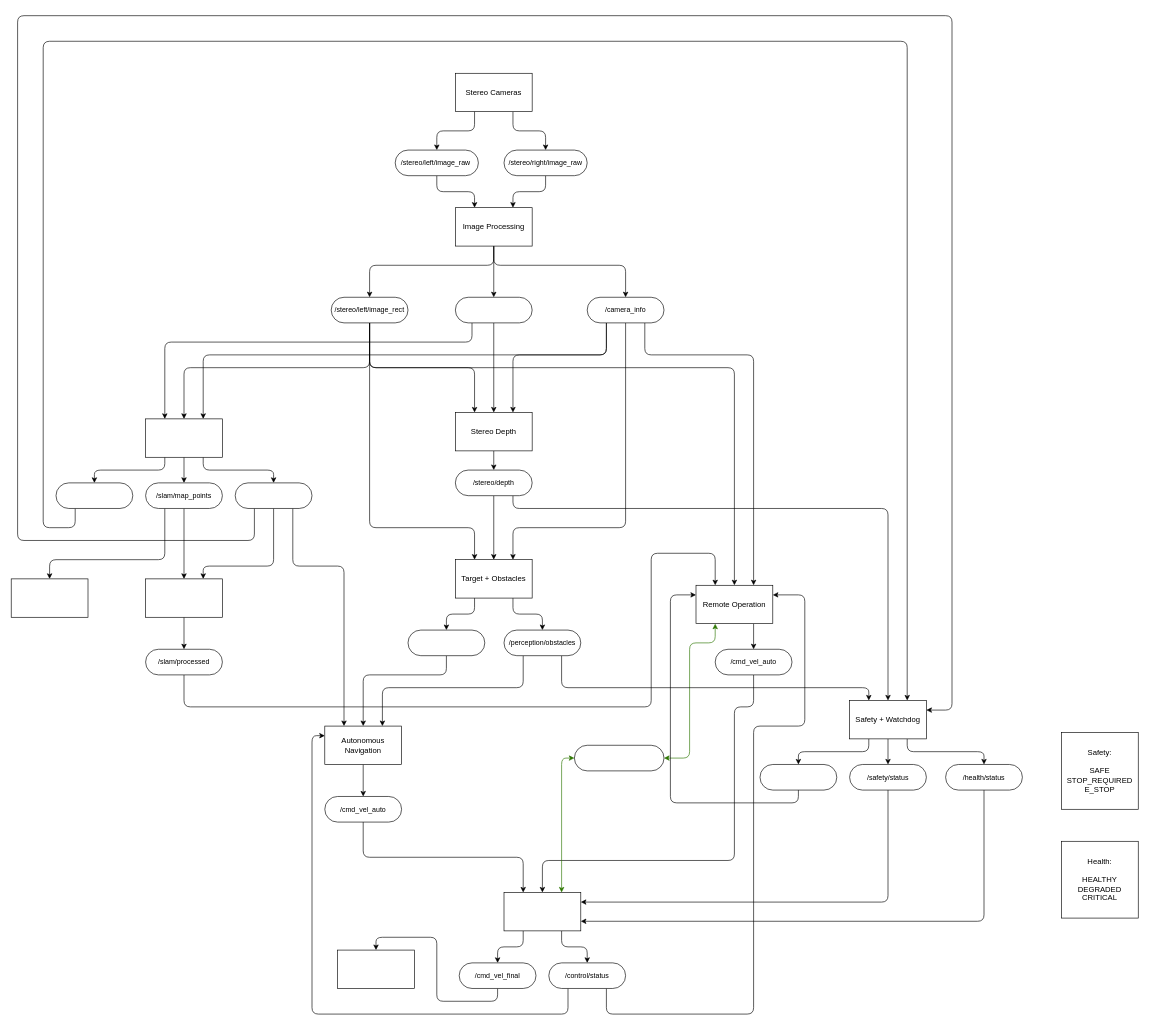
The diagram is 1149 pixels wide and 1030 high, and some of its shapes have lost their labels. Here are the shapes that lost their labels. From the top down, the centre of each, then its label:
At point (493, 310): "/stereo/rigt/image_rect".
At point (183, 437): "SLAM".
At point (94, 495): "/slam/status".
At point (273, 495): "/slam/pose".
At point (49, 597): "OPTIONAL RViz2 Visualization".
At point (183, 597): "Map data preparation".
At point (446, 642): "/perception/target".
At point (619, 758): "Request MANUAL/AUTO".
At point (798, 777): "/system/diagnostics".
At point (542, 911): "Operation Command Arbiter".
At point (375, 968): "Robot Driver".
